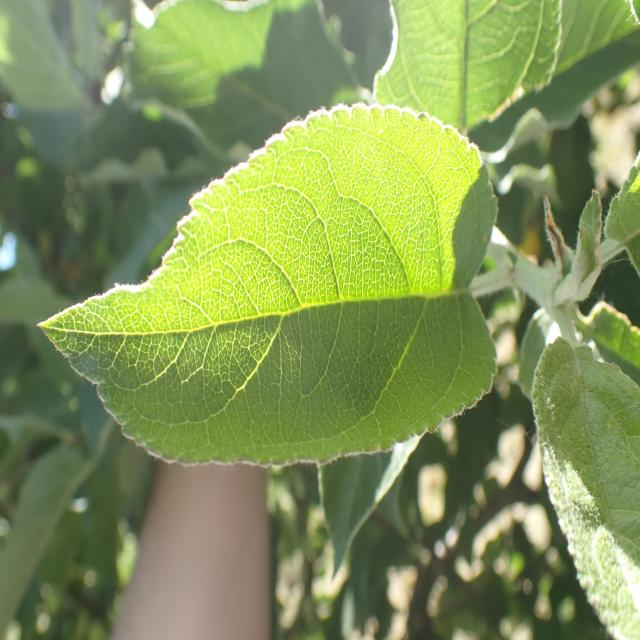healthy: (36, 102, 498, 468), (531, 335, 640, 640), (373, 0, 562, 163)
